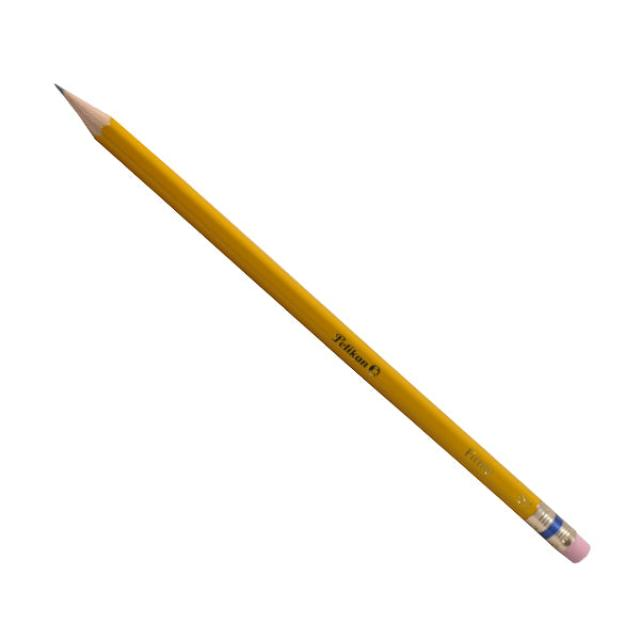pencil: (26, 52, 616, 582)
